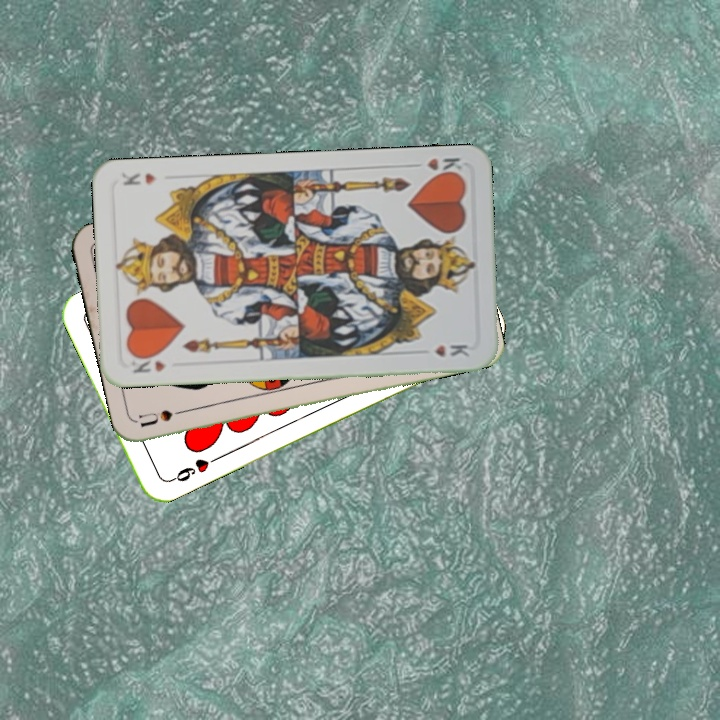H9: (165, 453, 220, 485)
HK: (406, 153, 466, 180), (125, 350, 169, 376)
SU: (135, 404, 195, 431)
